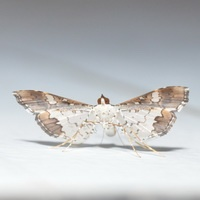insect: (13, 86, 188, 156)
